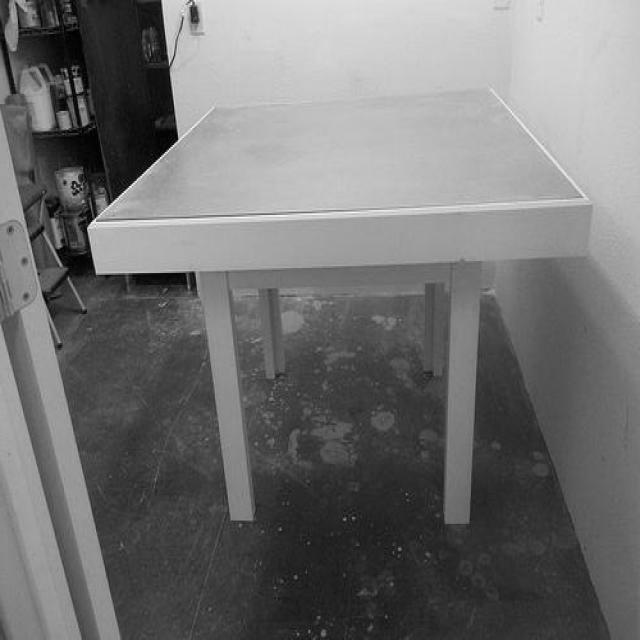table: (94, 86, 588, 528)
